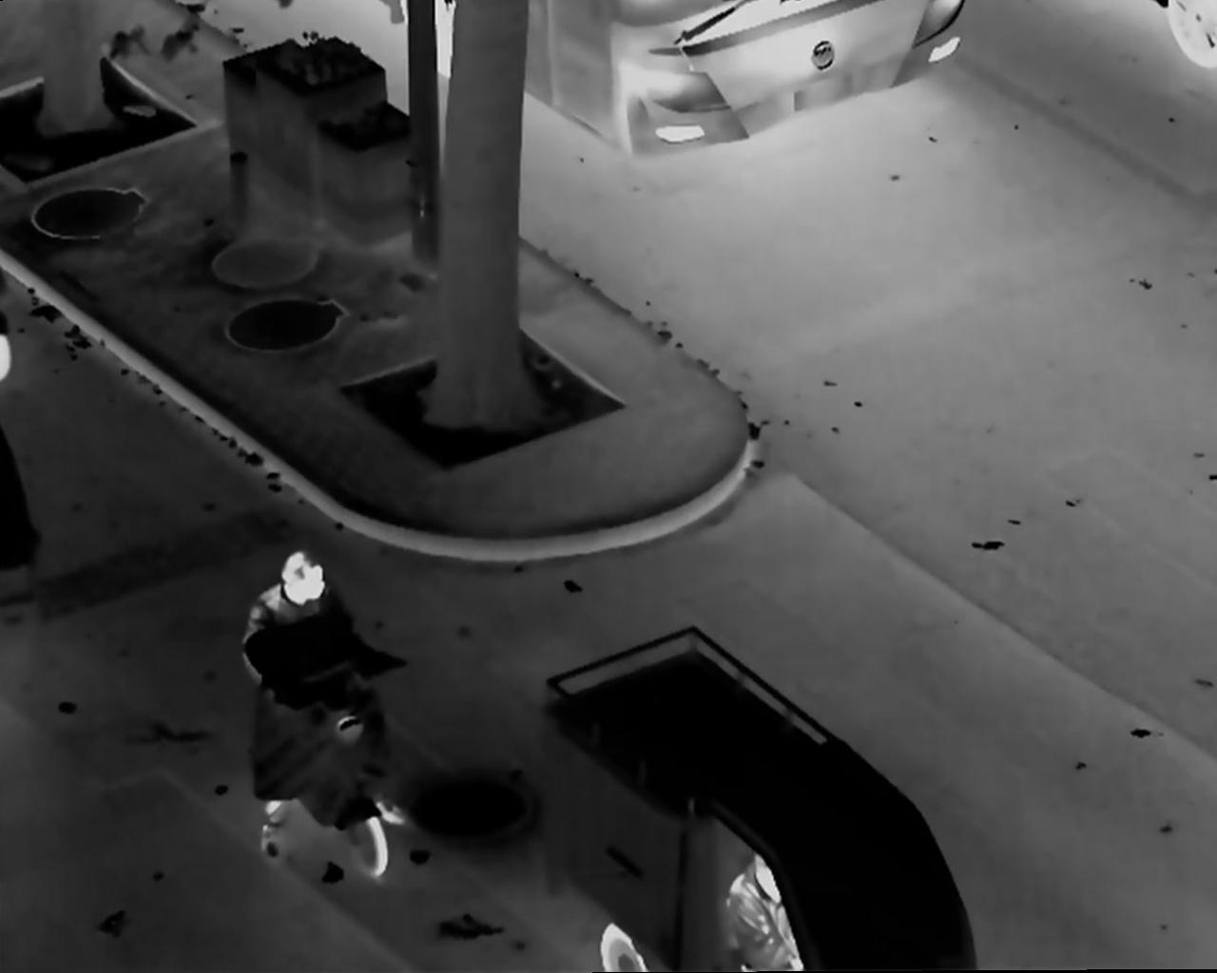person: (241, 547, 410, 861), (728, 844, 811, 973)
